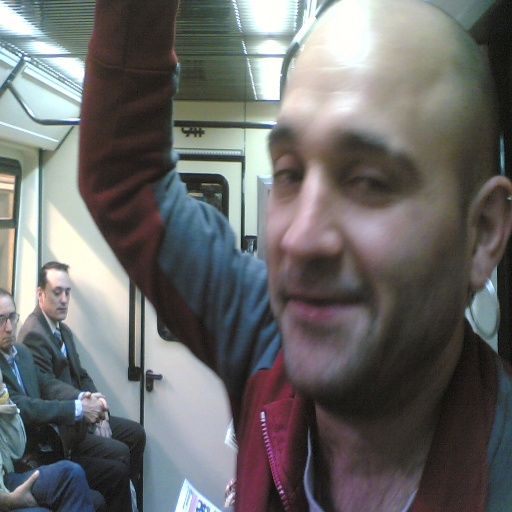hand: (12, 469, 37, 509), (78, 393, 105, 429), (80, 389, 109, 419), (90, 417, 112, 438)
